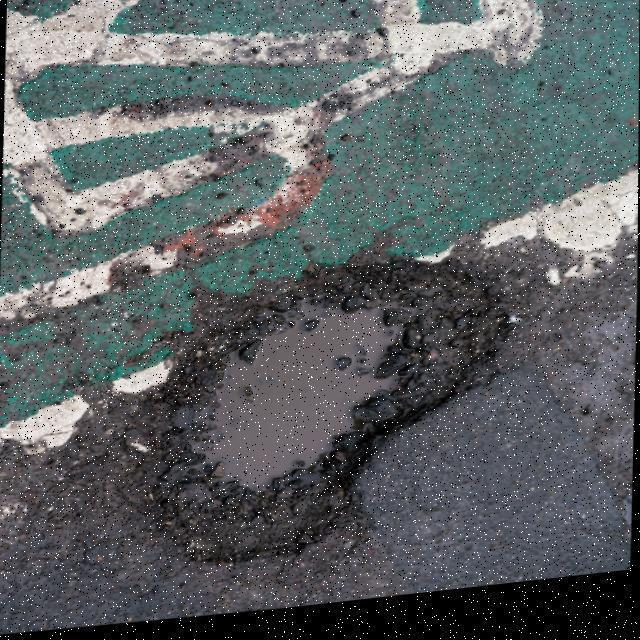Pothole: (148, 253, 519, 569)
